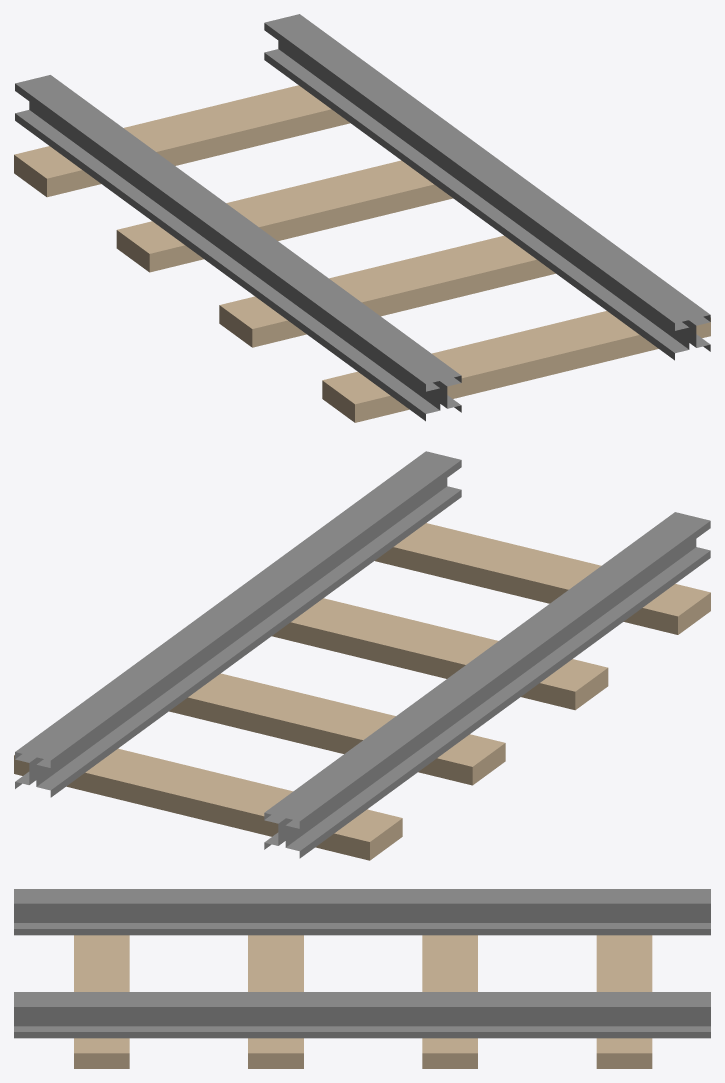
The model's file is mine_track_straight.dae.
The picture shows the model from 3 angles, top to bottom: view 1: azimuth 30°, elevation 25°; view 2: azimuth 150°, elevation 25°; view 3: azimuth 270°, elevation 25°; orthographic projection. The views are drawn at different scales.
Visible parts, largest first — view 1: TrackStraight; view 2: TrackStraight; view 3: TrackStraight.
Part boxes in pixels (x1=…): TrackStraight: x1=14, y1=14, x2=710, y2=422; TrackStraight: x1=14, y1=451, x2=710, y2=860; TrackStraight: x1=14, y1=889, x2=710, y2=1068.
Size of the model in its own units: 1 by 2 by 0.15.
